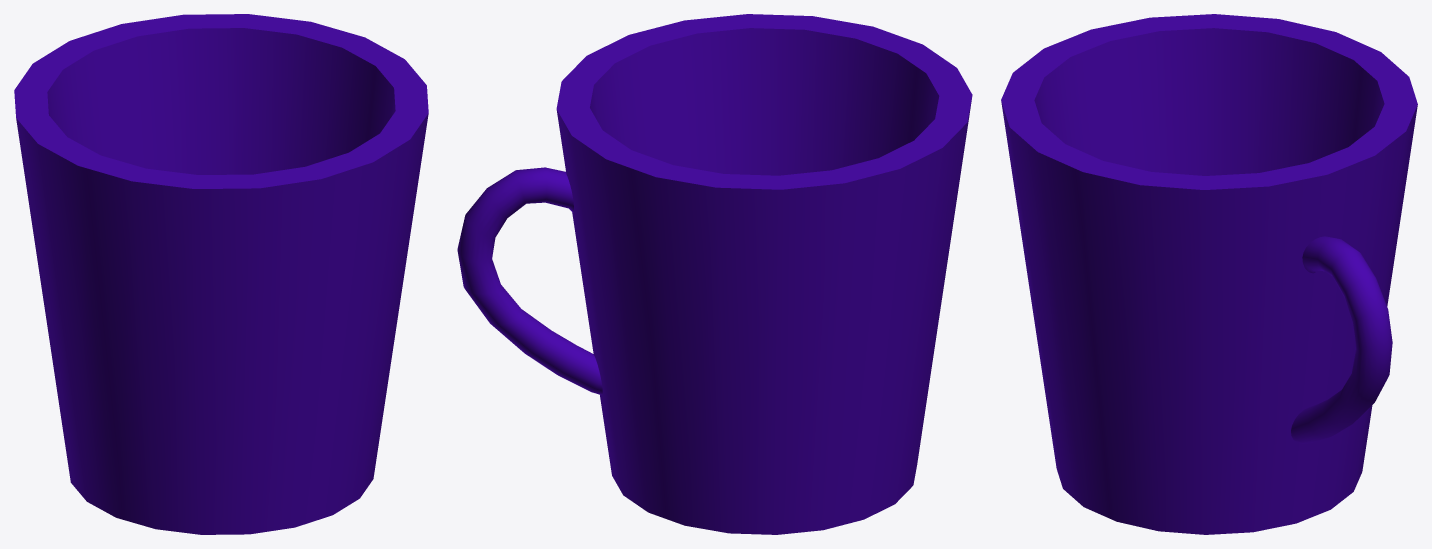
Rendered from cup.fbx.
3 renders of one model, left to right at view 1: azimuth 30°, elevation 25°; view 2: azimuth 150°, elevation 25°; view 3: azimuth 270°, elevation 25°, orthographic.
Parts seen in each view (by area): view 1: mug1; view 2: mug1; view 3: mug1.
Boxes of the visible parts, x1=… form: mug1: x1=14, y1=14, x2=428, y2=534; mug1: x1=457, y1=14, x2=972, y2=534; mug1: x1=1001, y1=14, x2=1417, y2=534.
Size of the model in its own units: 1.72 by 1.5 by 1.54.
